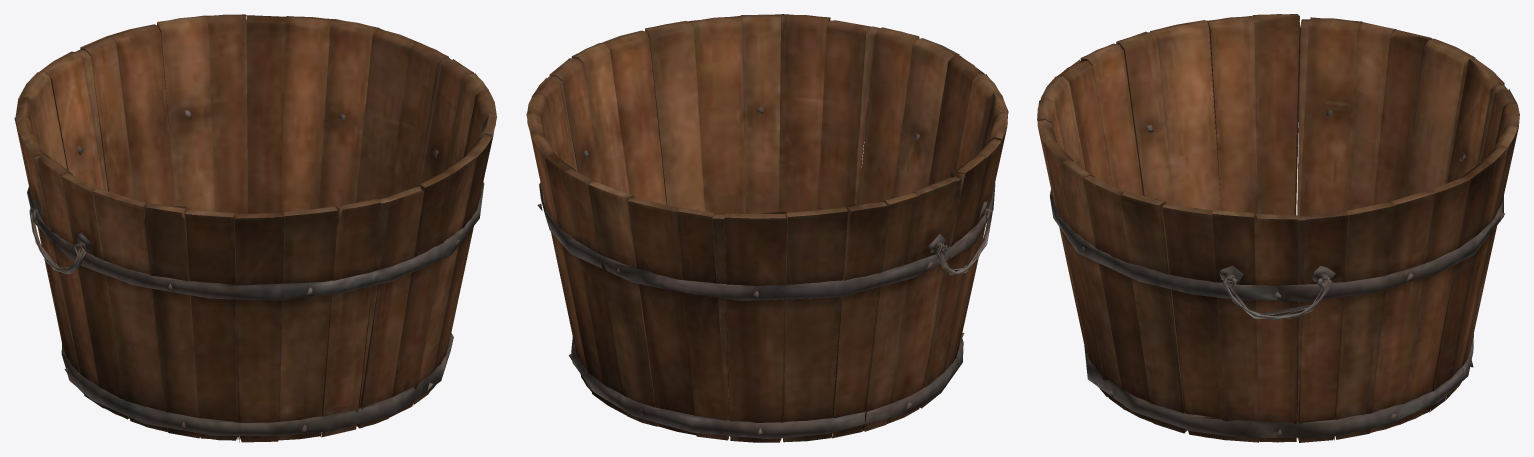
File: wooden_bucket_02.glb
3 renders of one model, left to right at view 1: azimuth 30°, elevation 25°; view 2: azimuth 150°, elevation 25°; view 3: azimuth 270°, elevation 25°, orthographic.
Visible parts, largest first — view 1: wooden_bucket_02; view 2: wooden_bucket_02; view 3: wooden_bucket_02.
Boxes of the visible parts, box(x1,y1,x2,y2) form: wooden_bucket_02: box(14, 14, 496, 442); wooden_bucket_02: box(526, 14, 1008, 442); wooden_bucket_02: box(1037, 14, 1519, 442).
Size of the model in its own units: 0.613 by 0.3523 by 0.6146.
Materials: 1 (1 with a texture image).
